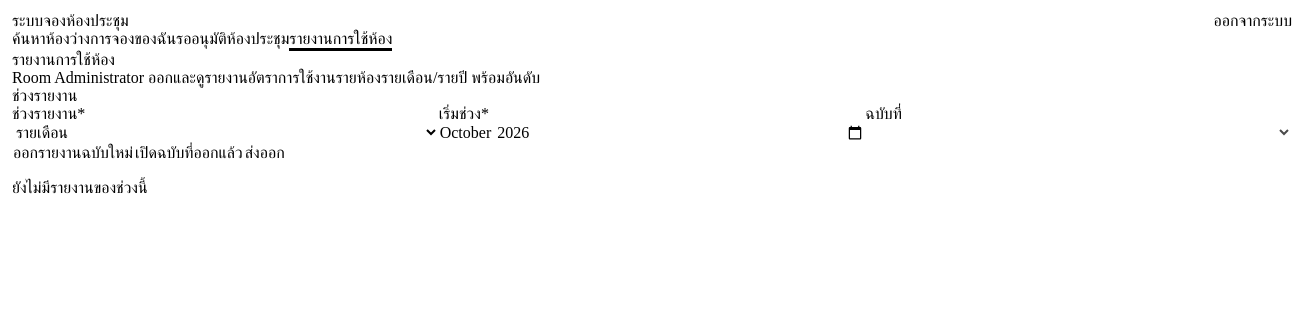
Scenario: FE-mrr-016 utilization report page (RPT-mrr-001) › empty state — ยังไม่มีรายงานของช่วงนี้ with ออกรายงานฉบับใหม่ ready, and the first issue says ออกรายงานแล้ว
The width and height of the screenshot is (1304, 317).
Expected: the text "ยังไม่มีรายงานของช่วงนี้" is shown, [12,179,148,196]
Expected: the button with test id "rpt-mrr-001-export" is disabled, [244,143,286,163]
Click the button with test id "rpt-mrr-001-issue". click: [73, 153]
box: [12,143,134,163]
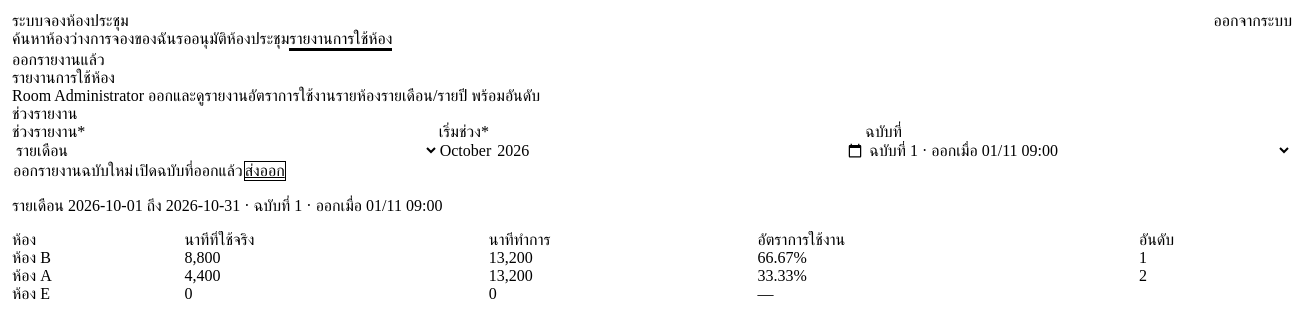
Result: the message reads "ออกรายงานแล้ว" at [12,51,105,68]
